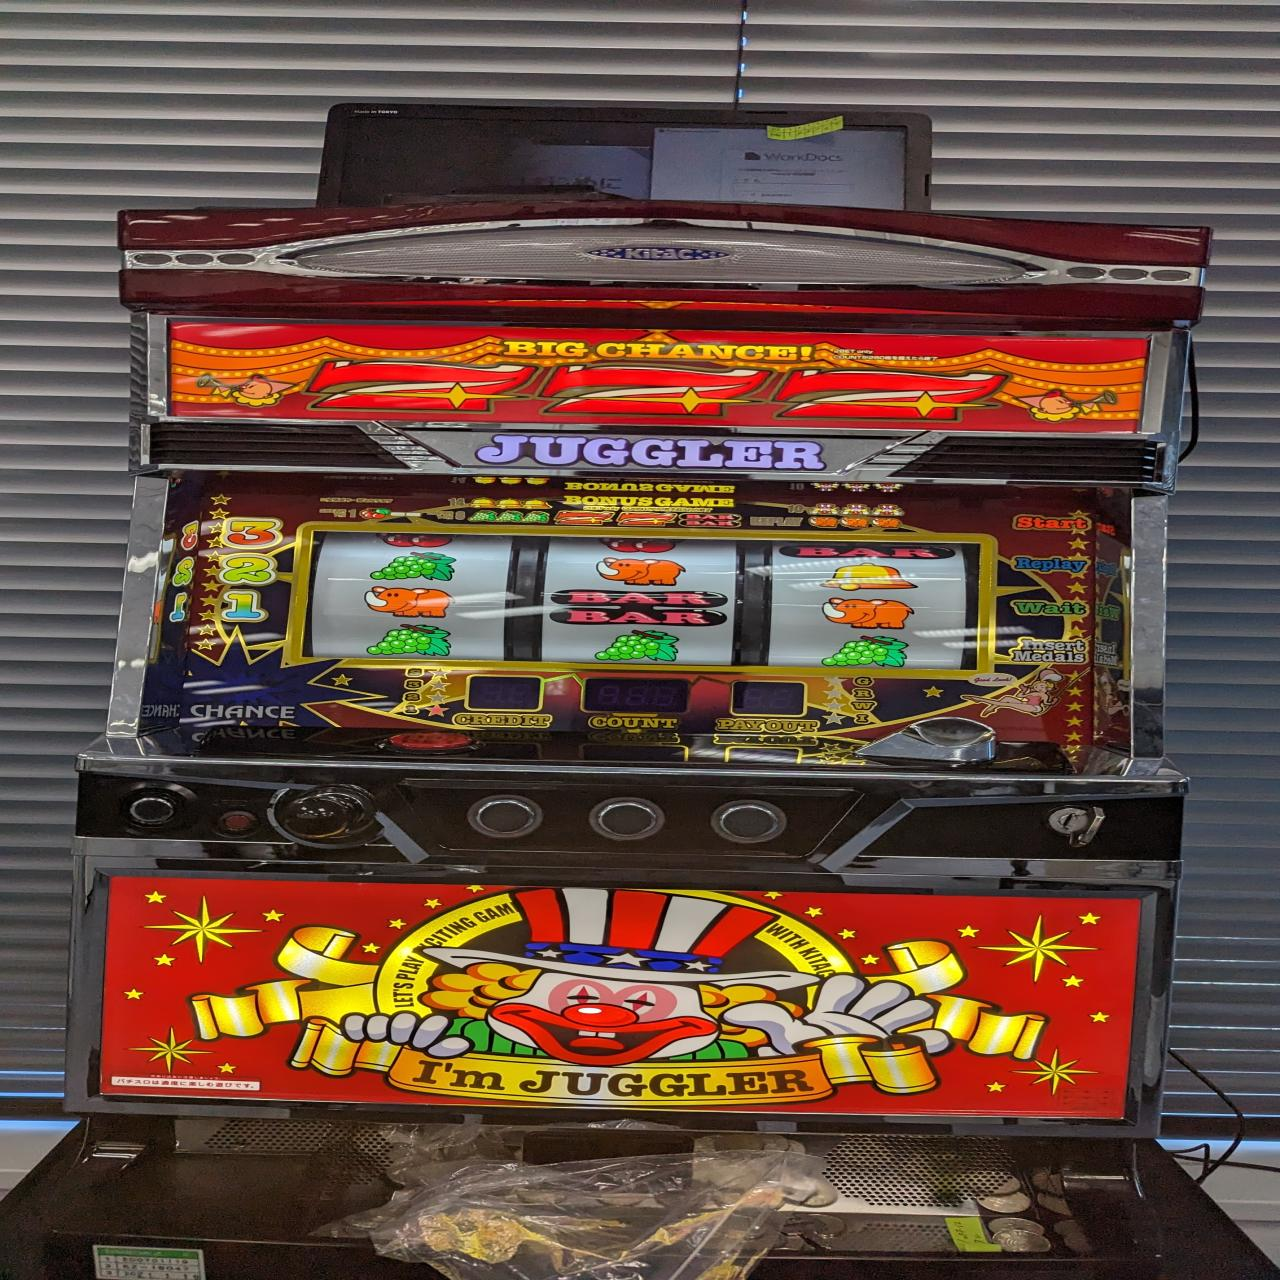Display: (298, 519, 994, 681)
bar: (551, 588, 727, 628)
bell: (817, 561, 919, 593)
grape: (822, 634, 908, 670), (365, 624, 454, 659), (367, 552, 464, 584), (594, 629, 682, 663)
rhino: (362, 587, 458, 620), (593, 557, 687, 587), (824, 598, 915, 628)
